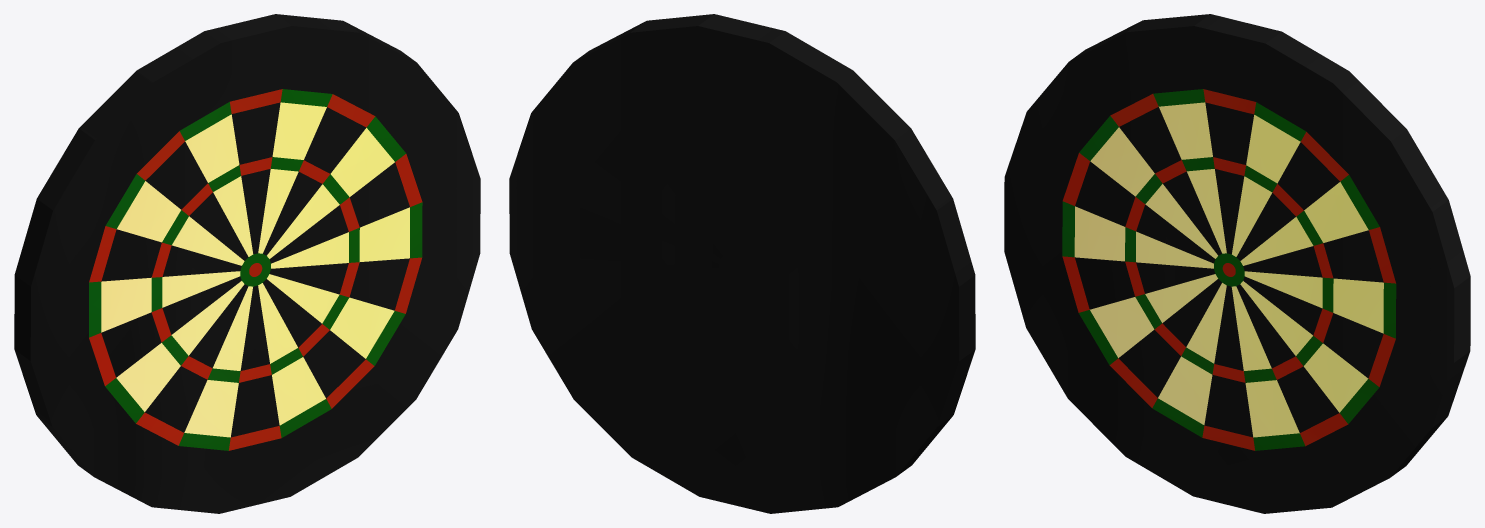
File: DartBoard.glb
The picture shows the model from 3 angles, left to right: view 1: azimuth 30°, elevation 25°; view 2: azimuth 150°, elevation 25°; view 3: azimuth 330°, elevation 25°; orthographic projection.
Parts seen in each view (by area): view 1: DartBoard; view 2: DartBoard; view 3: DartBoard.
Part boxes in pixels (box(x1,y1,x2,y2)): DartBoard: box(14, 14, 480, 513); DartBoard: box(509, 14, 975, 513); DartBoard: box(1004, 14, 1470, 513).
Bounding box in the file's own units: 0.602 × 0.602 × 0.0379.
Materials: 1 (1 with a texture image).
